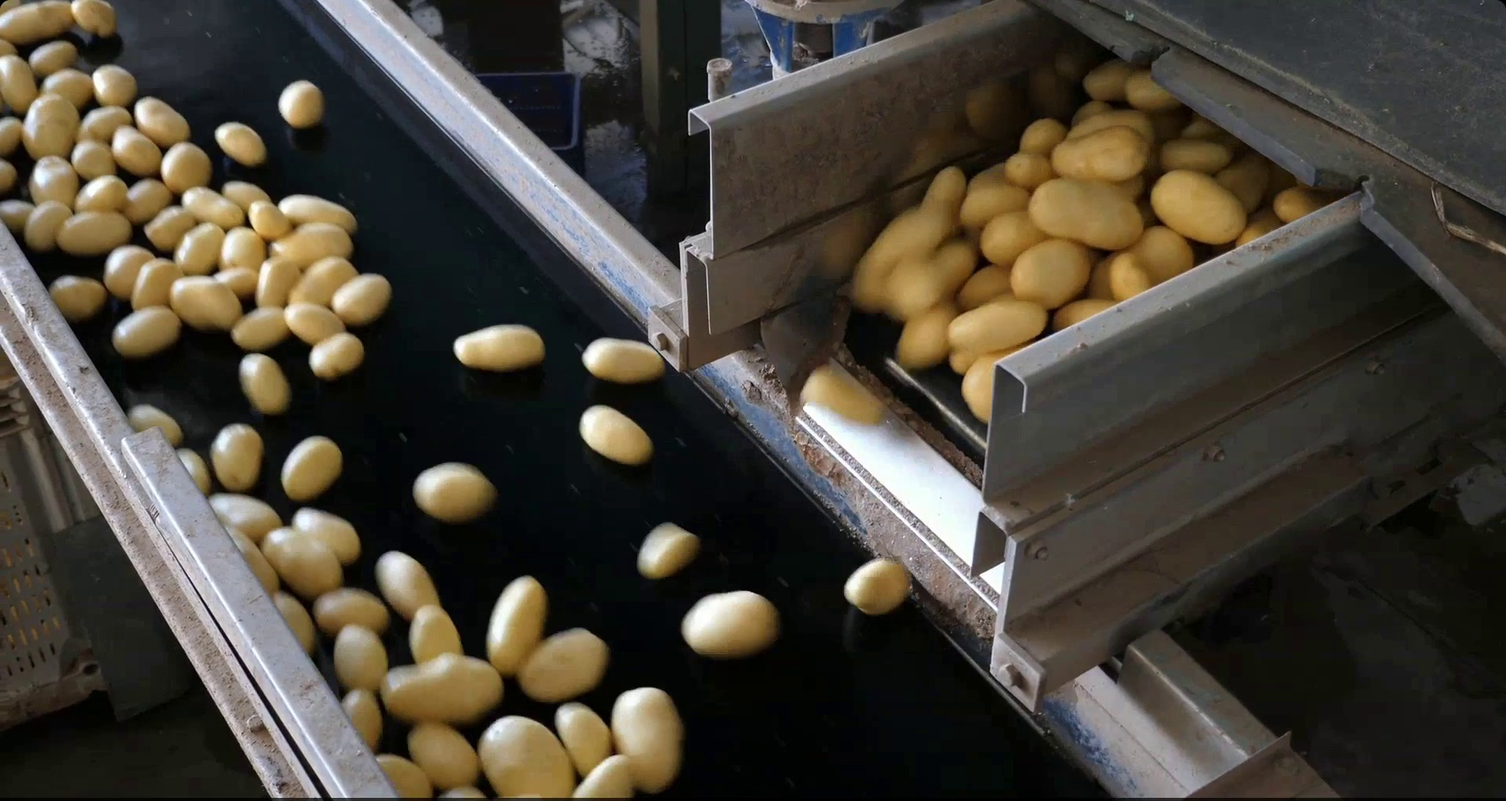potato: (368, 651, 511, 721), (472, 709, 578, 801), (1024, 175, 1147, 252), (609, 681, 686, 801), (1145, 162, 1247, 252), (677, 584, 787, 665), (513, 622, 614, 709), (482, 571, 558, 684), (1047, 121, 1155, 185), (794, 360, 892, 430), (406, 454, 502, 525), (944, 290, 1049, 353), (1006, 234, 1093, 306), (260, 523, 344, 597), (860, 201, 944, 274), (576, 401, 659, 472), (552, 694, 618, 783), (404, 713, 480, 790), (369, 547, 446, 622), (289, 501, 369, 570), (578, 333, 673, 390), (448, 318, 549, 371), (19, 84, 85, 165), (888, 303, 959, 377), (326, 616, 393, 694), (838, 555, 917, 621), (278, 433, 348, 507), (1121, 221, 1199, 285), (631, 516, 705, 582), (167, 274, 247, 335), (1061, 105, 1163, 152), (969, 208, 1046, 270), (222, 518, 281, 594), (405, 600, 468, 671), (107, 302, 184, 360), (307, 587, 397, 636), (286, 251, 365, 306), (333, 682, 392, 755), (206, 487, 288, 539), (208, 421, 267, 493), (235, 351, 293, 422), (953, 256, 1023, 314), (958, 346, 1011, 422), (565, 751, 645, 801), (1149, 130, 1230, 179), (1041, 292, 1124, 339), (329, 270, 397, 327), (267, 220, 357, 263), (959, 185, 1036, 234), (50, 206, 135, 250), (224, 301, 295, 351), (107, 118, 166, 178), (132, 92, 196, 147), (45, 270, 110, 324), (100, 240, 158, 300), (270, 587, 317, 661), (131, 253, 188, 314), (883, 256, 944, 313), (277, 299, 346, 349), (274, 192, 362, 231), (156, 139, 216, 196), (177, 182, 248, 230), (121, 397, 188, 447), (1214, 150, 1268, 212), (171, 218, 227, 277), (303, 329, 369, 379), (373, 749, 435, 801), (19, 196, 76, 252), (1119, 63, 1184, 111), (139, 200, 200, 251), (213, 219, 267, 276), (919, 162, 966, 227), (925, 240, 980, 295), (1, 4, 79, 42), (1076, 52, 1134, 103), (1107, 252, 1157, 311), (71, 103, 135, 149), (254, 256, 306, 312), (211, 117, 271, 165), (1271, 175, 1327, 226), (29, 154, 78, 212), (69, 169, 129, 216), (122, 173, 174, 226), (274, 77, 331, 125), (33, 63, 98, 105), (1, 51, 39, 121), (242, 197, 296, 243), (89, 63, 144, 108), (27, 36, 85, 78), (1228, 203, 1281, 248), (1015, 112, 1069, 154), (999, 150, 1057, 189), (69, 135, 117, 180), (176, 444, 213, 502), (217, 178, 270, 215), (68, 2, 121, 39), (849, 262, 886, 310), (1068, 93, 1114, 130), (1, 194, 42, 234), (213, 264, 261, 298), (1088, 256, 1122, 302), (1173, 111, 1222, 141), (433, 782, 493, 801), (3, 111, 24, 157), (945, 345, 977, 375), (491, 788, 556, 801), (2, 155, 18, 194), (988, 289, 1018, 308), (1, 34, 19, 61)
